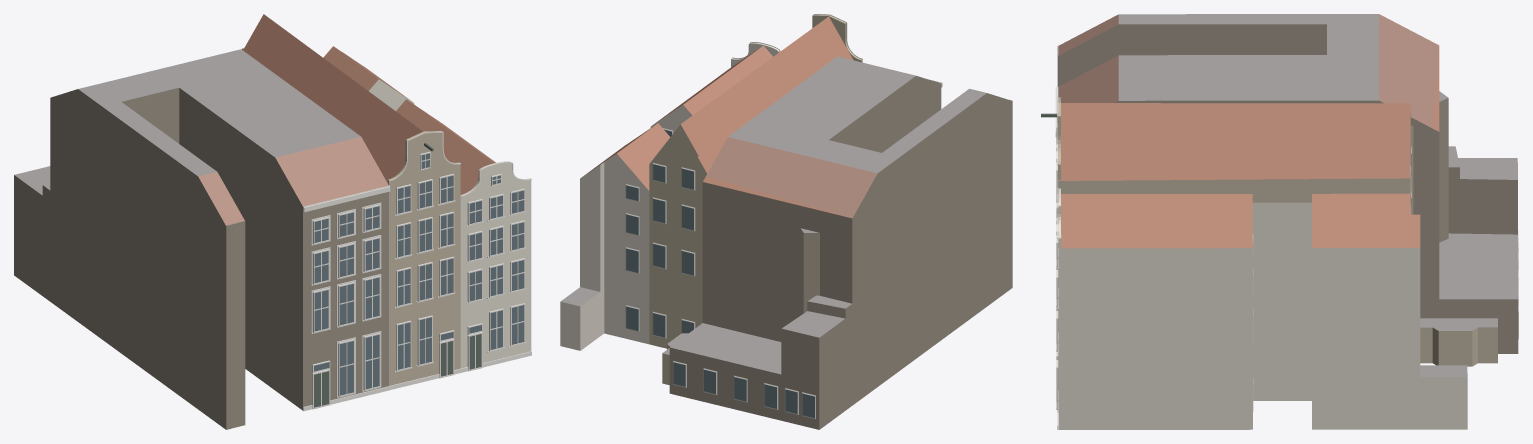
The model's file is chunk-face-keizersgracht-240-312-r1.glb.
3 renders of one model, left to right at view 1: azimuth 30°, elevation 25°; view 2: azimuth 150°, elevation 25°; view 3: azimuth 270°, elevation 25°, orthographic. The views are drawn at different scales.
Parts seen in each view (by area): view 1: face-keizersgracht-240-312-r1; view 2: face-keizersgracht-240-312-r1; view 3: face-keizersgracht-240-312-r1.
Boxes of the visible parts, x1,y1,x2,y2 form: face-keizersgracht-240-312-r1: [14, 14, 531, 429]; face-keizersgracht-240-312-r1: [560, 14, 1012, 429]; face-keizersgracht-240-312-r1: [1041, 14, 1518, 429].
Size of the model in its own units: 24.36 by 18.96 by 30.24.
